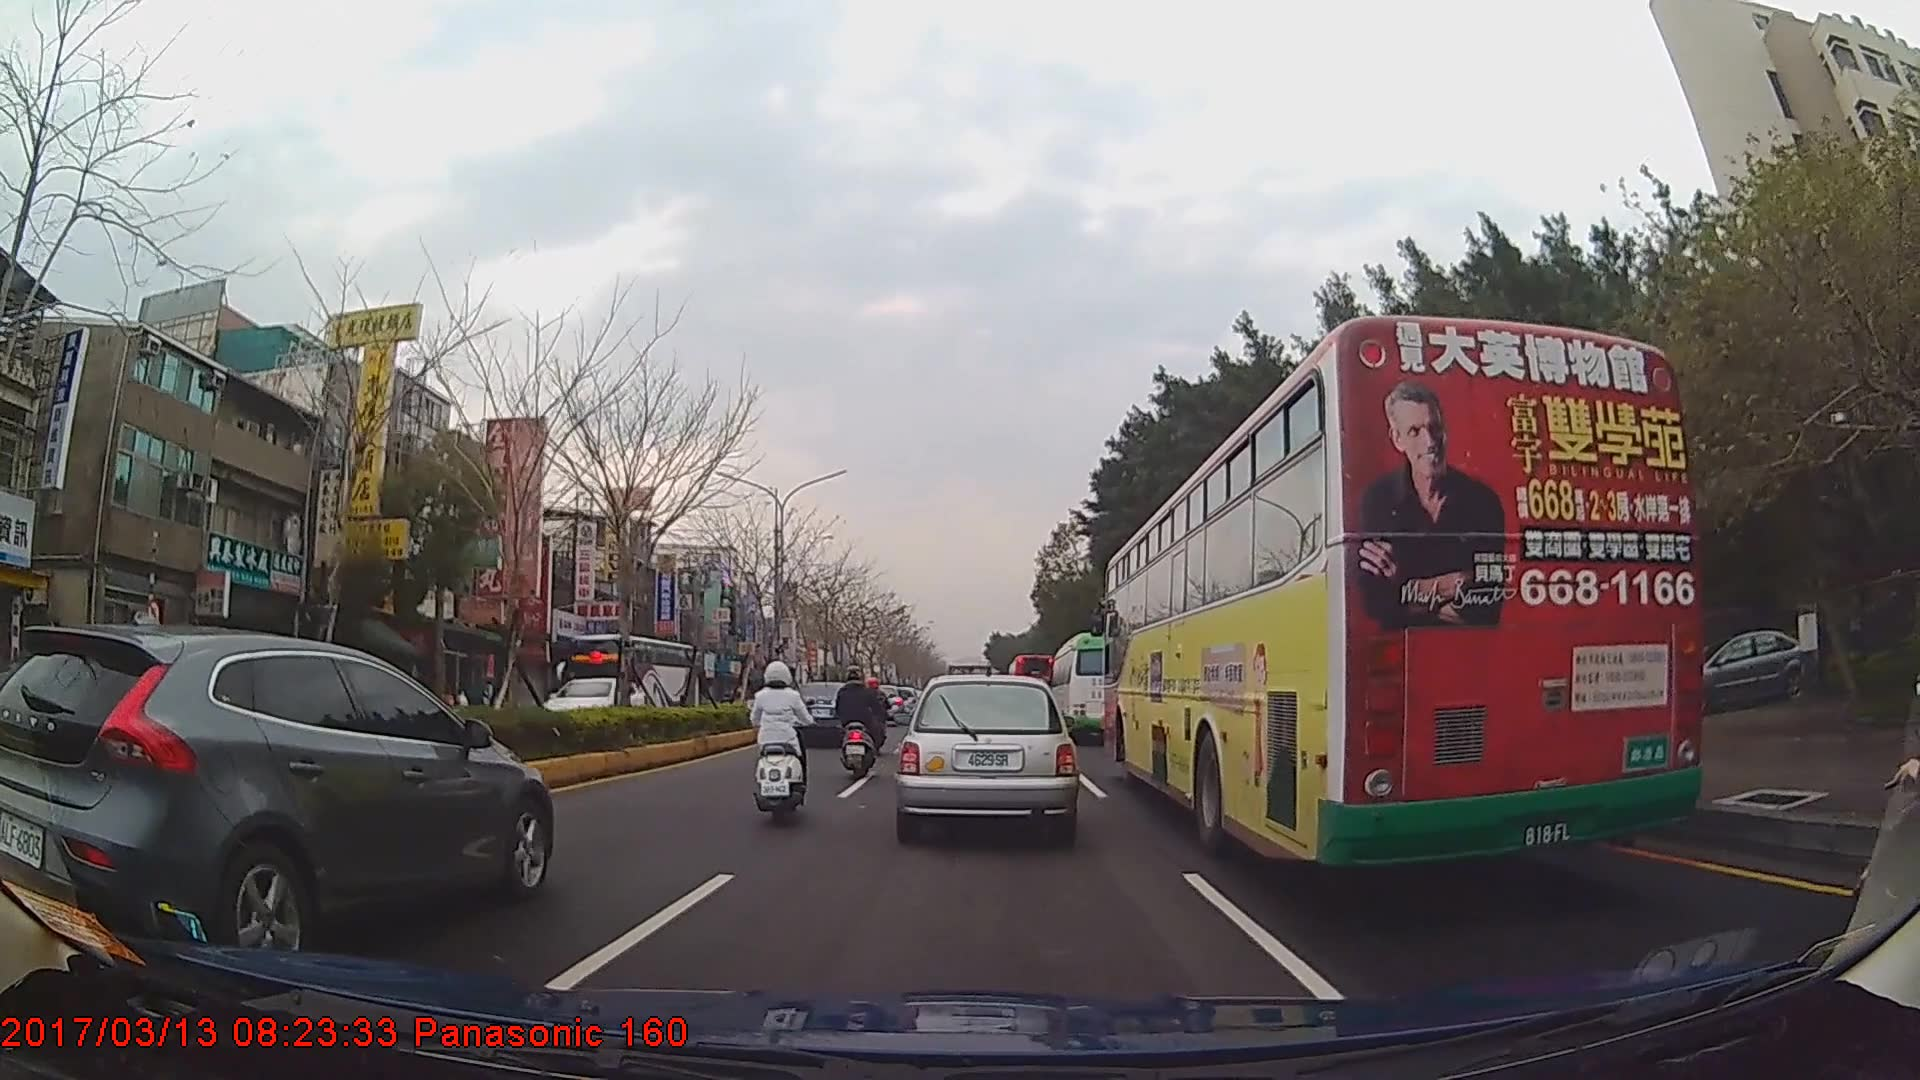rider: (746, 658, 813, 826), (837, 669, 888, 774), (861, 676, 891, 758)
vehicle: (1100, 314, 1703, 872), (0, 627, 552, 961), (897, 673, 1077, 842), (565, 633, 699, 730), (1045, 631, 1131, 744), (538, 675, 648, 733), (786, 681, 864, 746), (1005, 649, 1055, 722)
